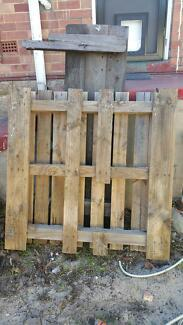wood: (7, 88, 180, 255)
